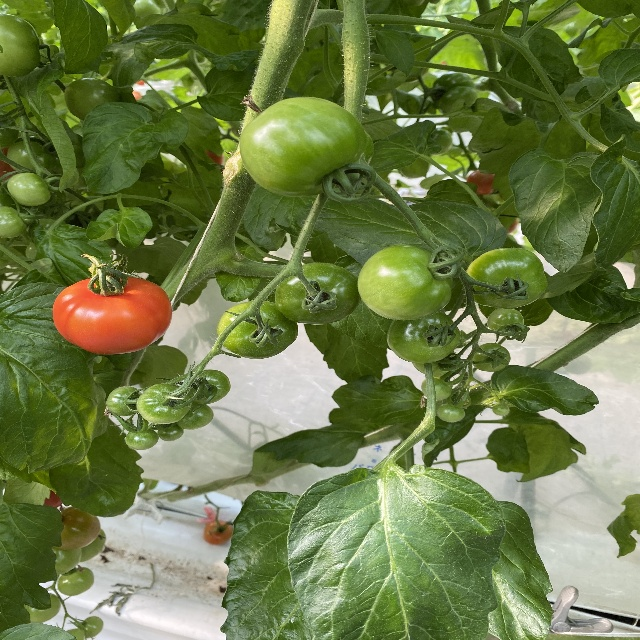l_fully_ripened: (52, 276, 172, 355)
l_green: (240, 96, 365, 198), (357, 244, 454, 321), (274, 262, 361, 325), (217, 300, 299, 363), (464, 247, 547, 309), (387, 312, 461, 364), (0, 13, 40, 78), (64, 77, 119, 121), (137, 383, 192, 424), (7, 137, 52, 175), (184, 370, 230, 404), (8, 172, 51, 206), (412, 351, 456, 378), (472, 342, 511, 372), (175, 401, 214, 430), (25, 593, 62, 623), (107, 386, 142, 416), (58, 568, 94, 596), (488, 308, 524, 335), (79, 529, 107, 562), (0, 206, 26, 238), (52, 547, 81, 574), (125, 429, 159, 450), (422, 378, 452, 401), (437, 404, 465, 423), (158, 422, 184, 441), (492, 404, 510, 415)
l_half_ripened: (54, 507, 101, 549)
